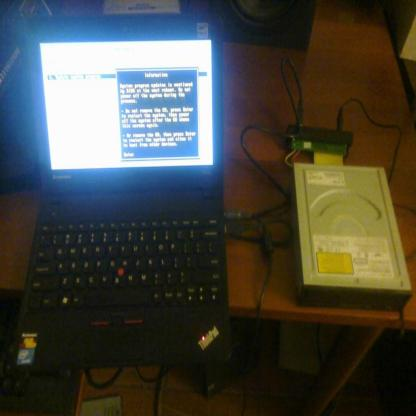board: (13, 15, 230, 373)
